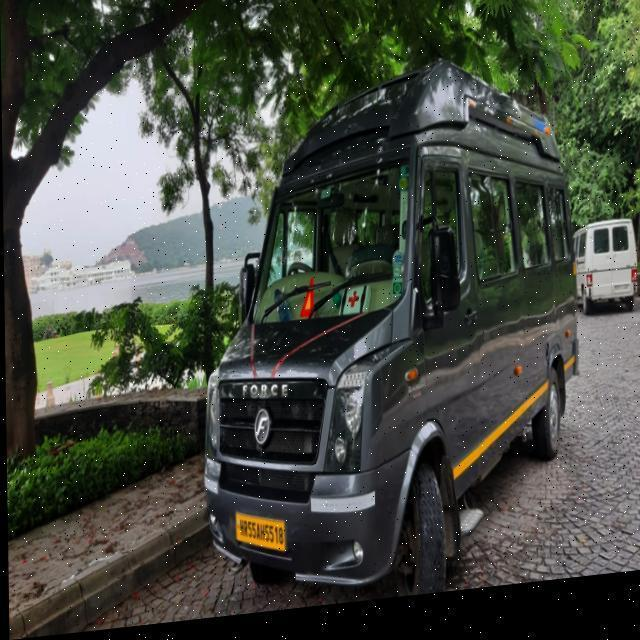Ambulance: (194, 55, 584, 620), (76, 304, 640, 632), (570, 228, 639, 334)
